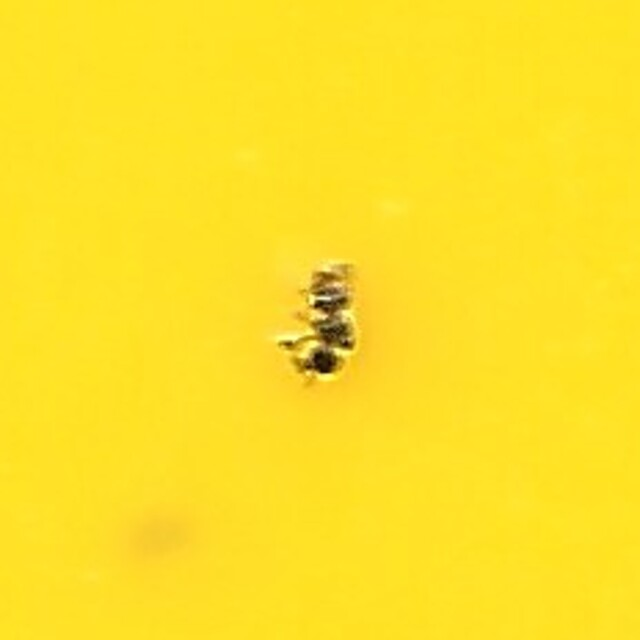Brachycera: (276, 254, 364, 386)
